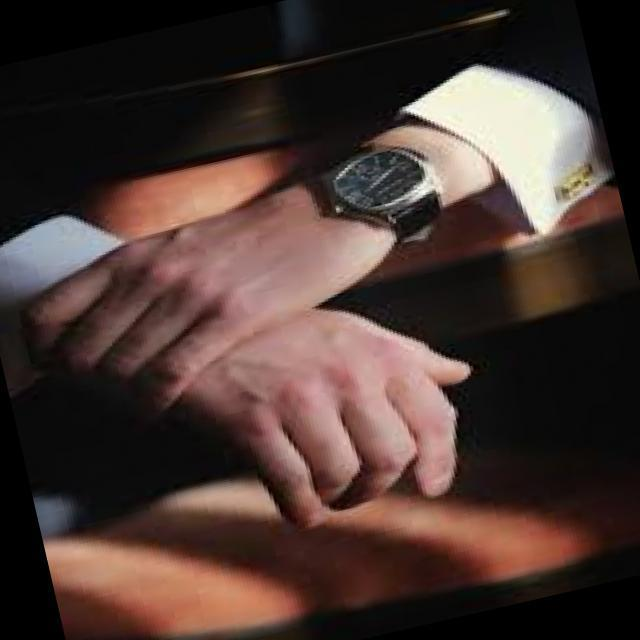Watch: (289, 133, 450, 251)
